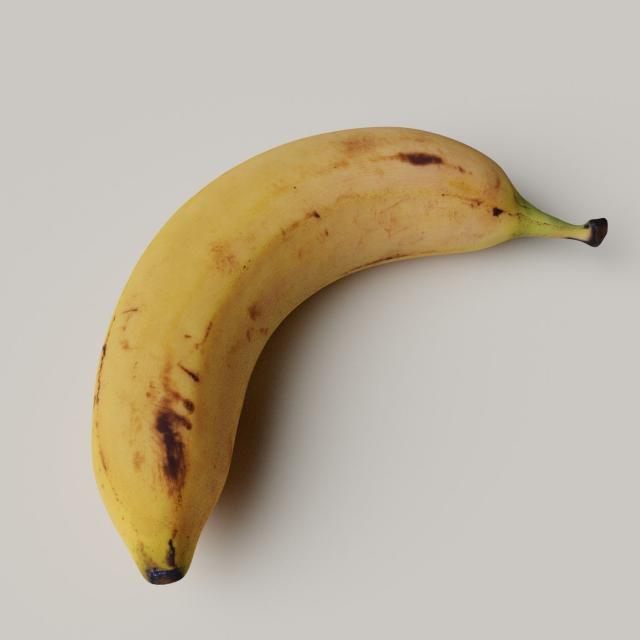Banana: (83, 121, 610, 589)
